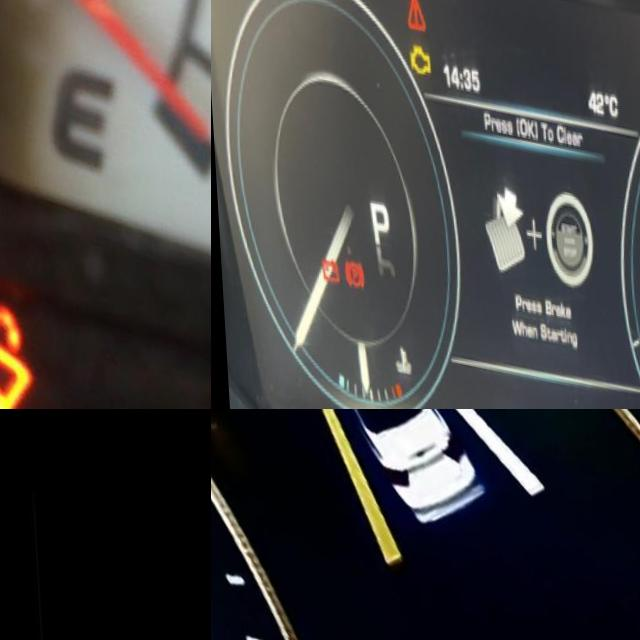High Engine Coolant Temperature: (387, 332, 408, 373)
Washer Fluid: (0, 286, 30, 409)
